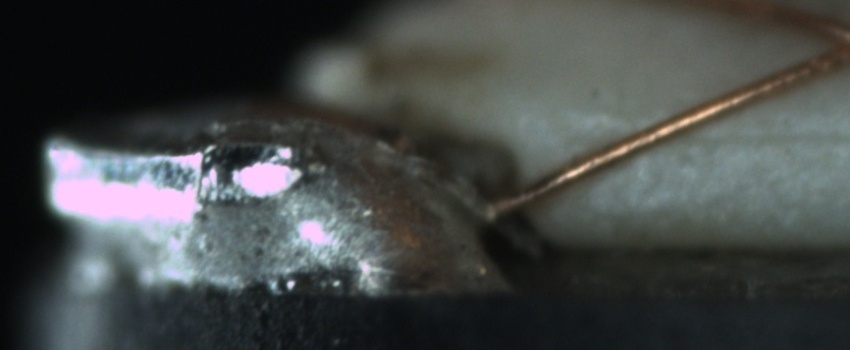CL: (800, 12, 850, 77)
DL: (630, 107, 846, 167)
